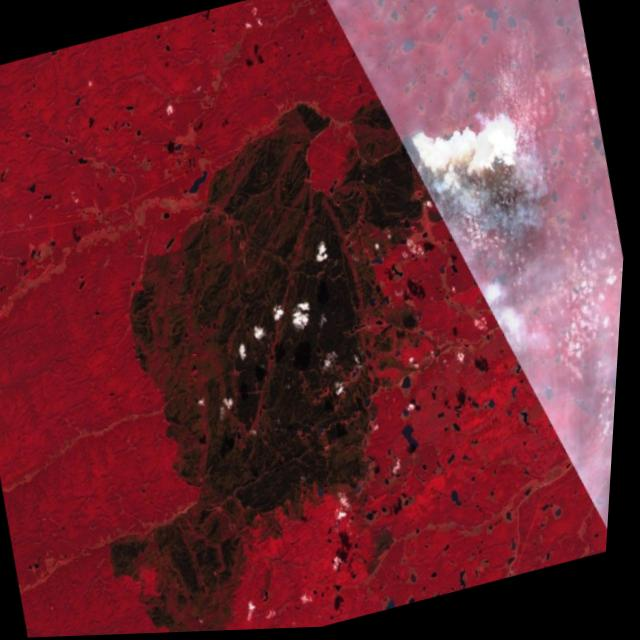fire: (391, 120, 444, 188)
